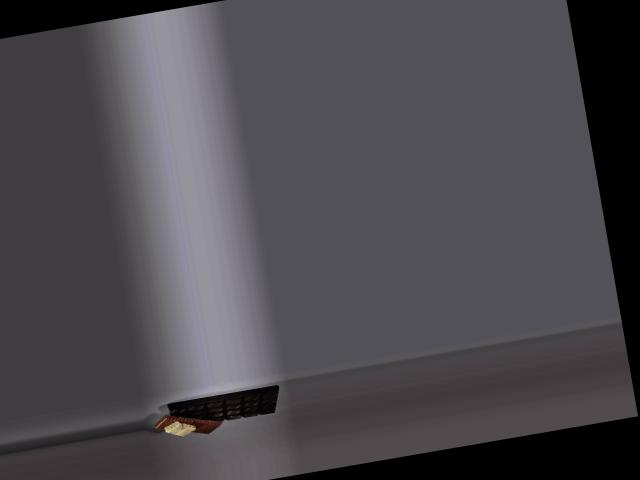chocolate: (159, 380, 284, 435)
